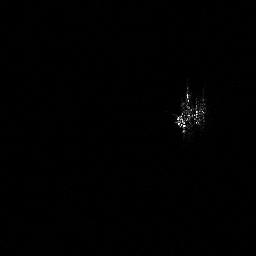ship: (172, 83, 209, 142)
